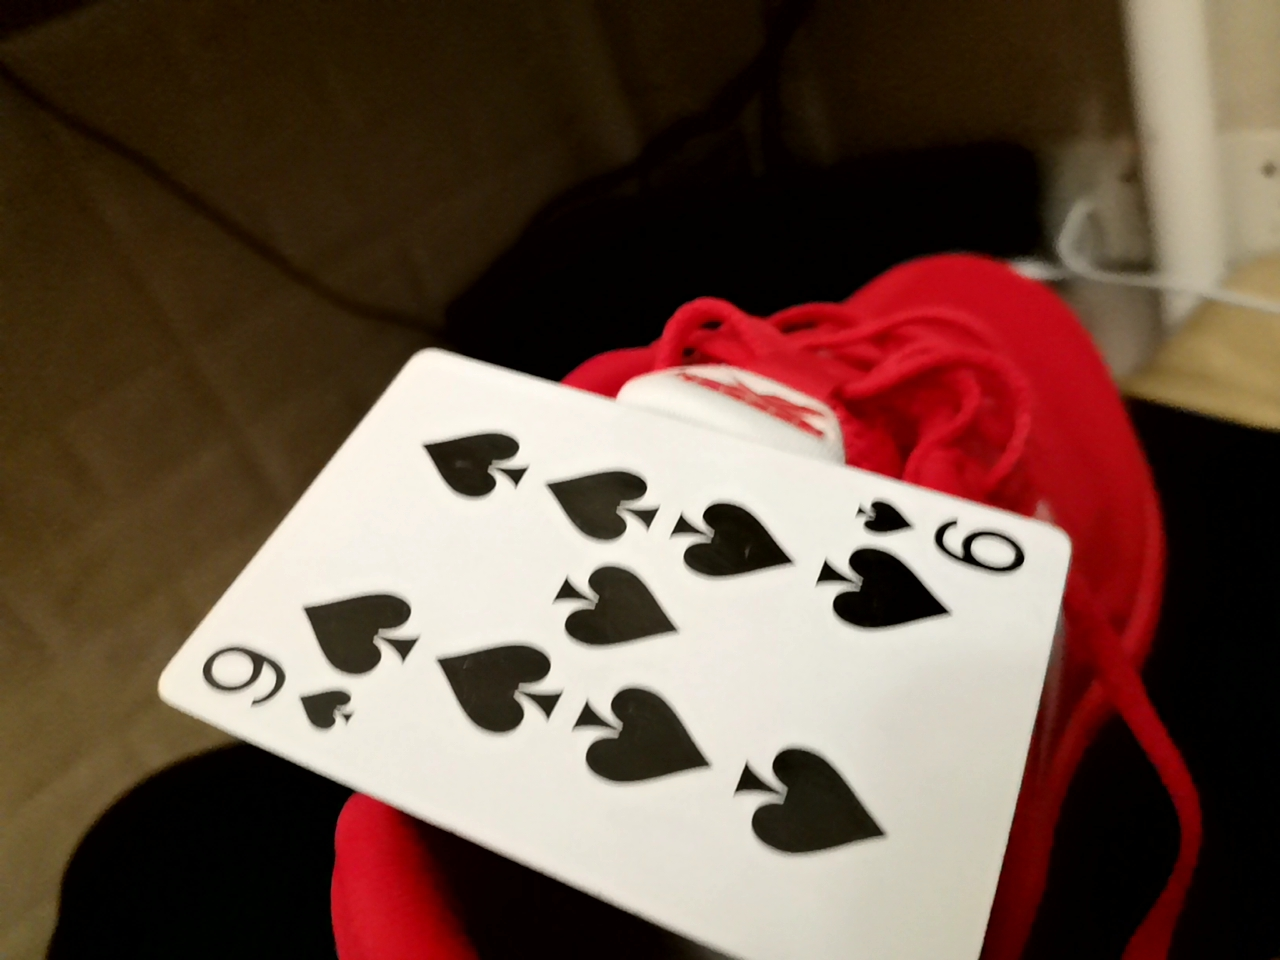ht 9: (148, 348, 1083, 950)
